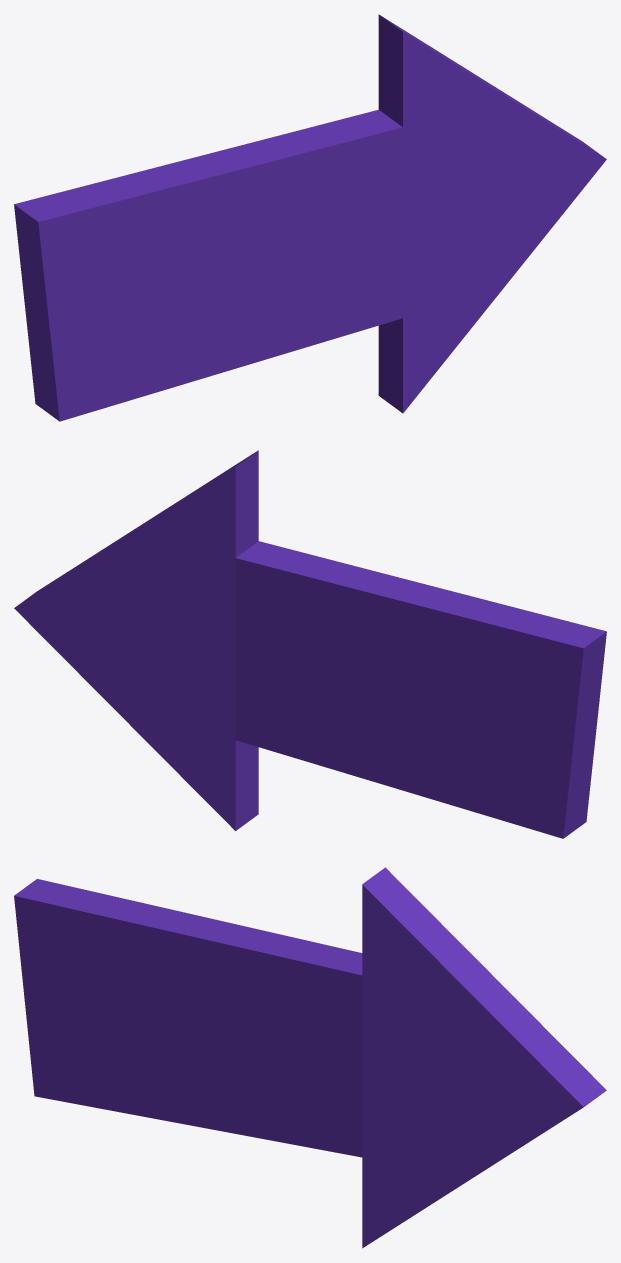
Rendered from Arrow.glb.
3 renders of one model, top to bottom at view 1: azimuth 30°, elevation 25°; view 2: azimuth 150°, elevation 25°; view 3: azimuth 330°, elevation 25°, orthographic. The views are drawn at different scales.
Visible parts, largest first — view 1: group1140289422; view 2: group1140289422; view 3: group1140289422.
Part boxes in pixels (x1,y1,x2,y2): group1140289422: [14, 14, 606, 421]; group1140289422: [14, 450, 606, 838]; group1140289422: [14, 867, 606, 1248].
Bounding box in the file's own units: 0.2716 × 0.1699 × 0.031.
